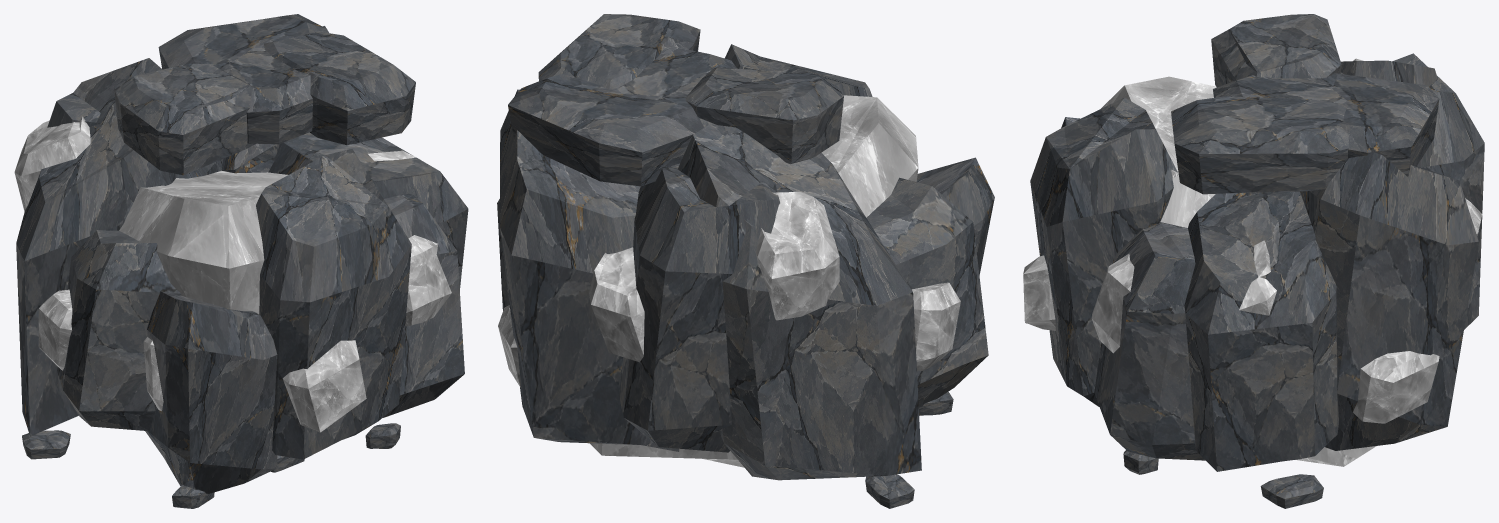
File: Ore_P4.fbx
3 renders of one model, left to right at view 1: azimuth 30°, elevation 25°; view 2: azimuth 150°, elevation 25°; view 3: azimuth 270°, elevation 25°, orthographic. The views are drawn at different scales.
Visible parts, largest first — view 1: Ore_P4_LOD0; view 2: Ore_P4_LOD0; view 3: Ore_P4_LOD0.
Boxes of the visible parts, bbox=[...] form: Ore_P4_LOD0: bbox=[14, 14, 468, 508]; Ore_P4_LOD0: bbox=[497, 14, 994, 508]; Ore_P4_LOD0: bbox=[1023, 14, 1484, 508].
Size of what is drawn, in the model's own units: 1.75 by 1.45 by 1.63.
Materials: 2 (2 with a texture image).
